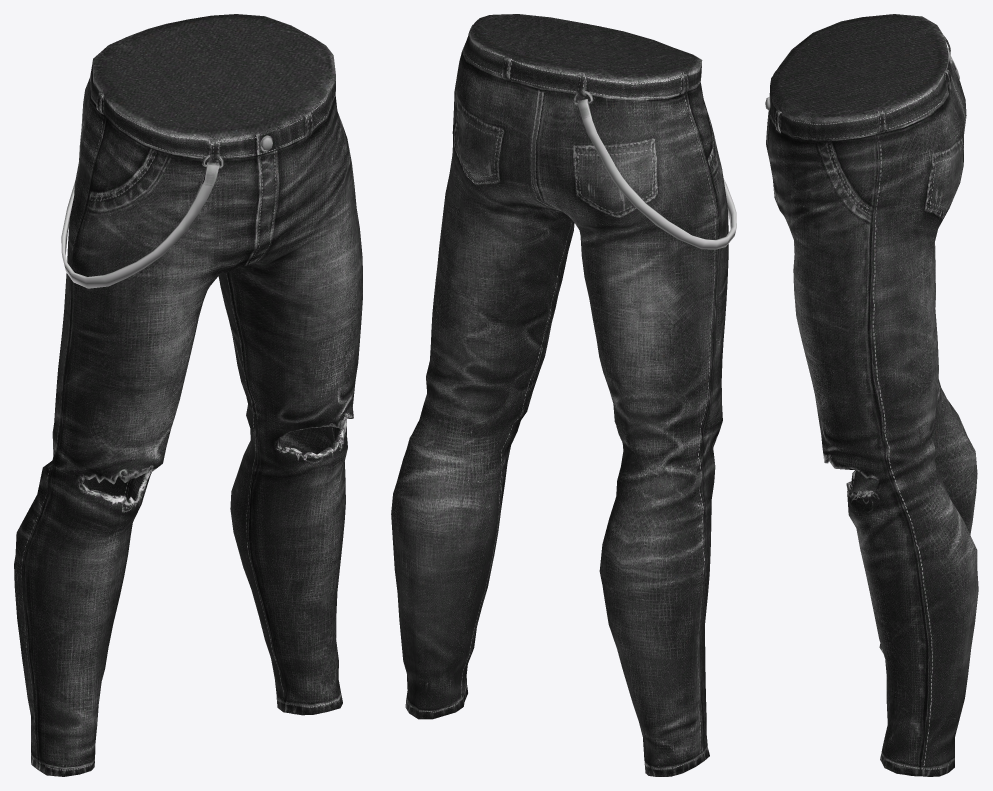
File: SurvivorMale_Legs_Pants_RippedKneeJeans_LOD0.glb
3 renders of one model, left to right at view 1: azimuth 30°, elevation 25°; view 2: azimuth 150°, elevation 25°; view 3: azimuth 270°, elevation 25°, orthographic. The views are drawn at different scales.
Visible parts, largest first — view 1: Hoodie; view 2: Hoodie; view 3: Hoodie.
Part boxes in pixels (x1,y1,x2,y2): Hoodie: (14, 14, 362, 776); Hoodie: (391, 14, 736, 776); Hoodie: (765, 14, 978, 776).
Bounding box in the file's own units: 0.4652 × 0.9959 × 0.2913.
Materials: 1 (1 with a texture image).
